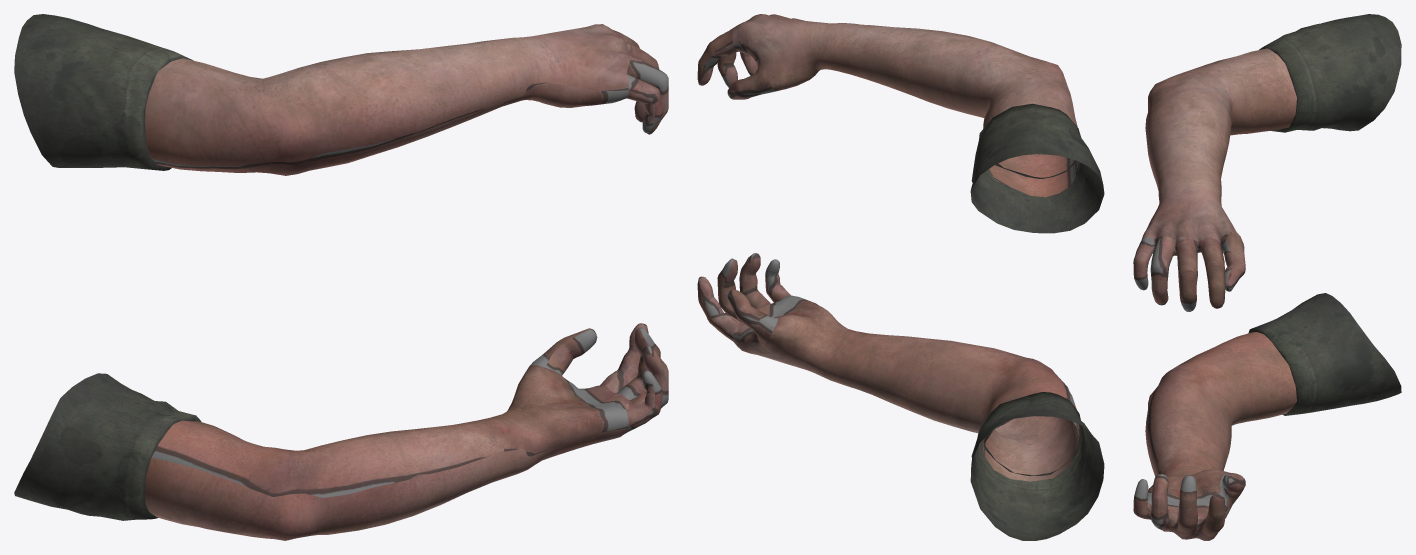
File: viewmodel_usa_pow_arms.glb
The picture shows the model from 3 angles, left to right: view 1: azimuth 30°, elevation 25°; view 2: azimuth 150°, elevation 25°; view 3: azimuth 270°, elevation 25°; orthographic projection. The views are drawn at different scales.
Visible parts, largest first — view 1: viewmodel_usa_pow_arms; view 2: viewmodel_usa_pow_arms; view 3: viewmodel_usa_pow_arms.
Part boxes in pixels (box(x1,y1,x2,y2)): viewmodel_usa_pow_arms: box(14, 14, 668, 540); viewmodel_usa_pow_arms: box(697, 14, 1104, 540); viewmodel_usa_pow_arms: box(1133, 14, 1401, 540).
Bounding box in the file's own units: 0.6521 × 0.5313 × 0.3422.
1 material, 1 textured.
